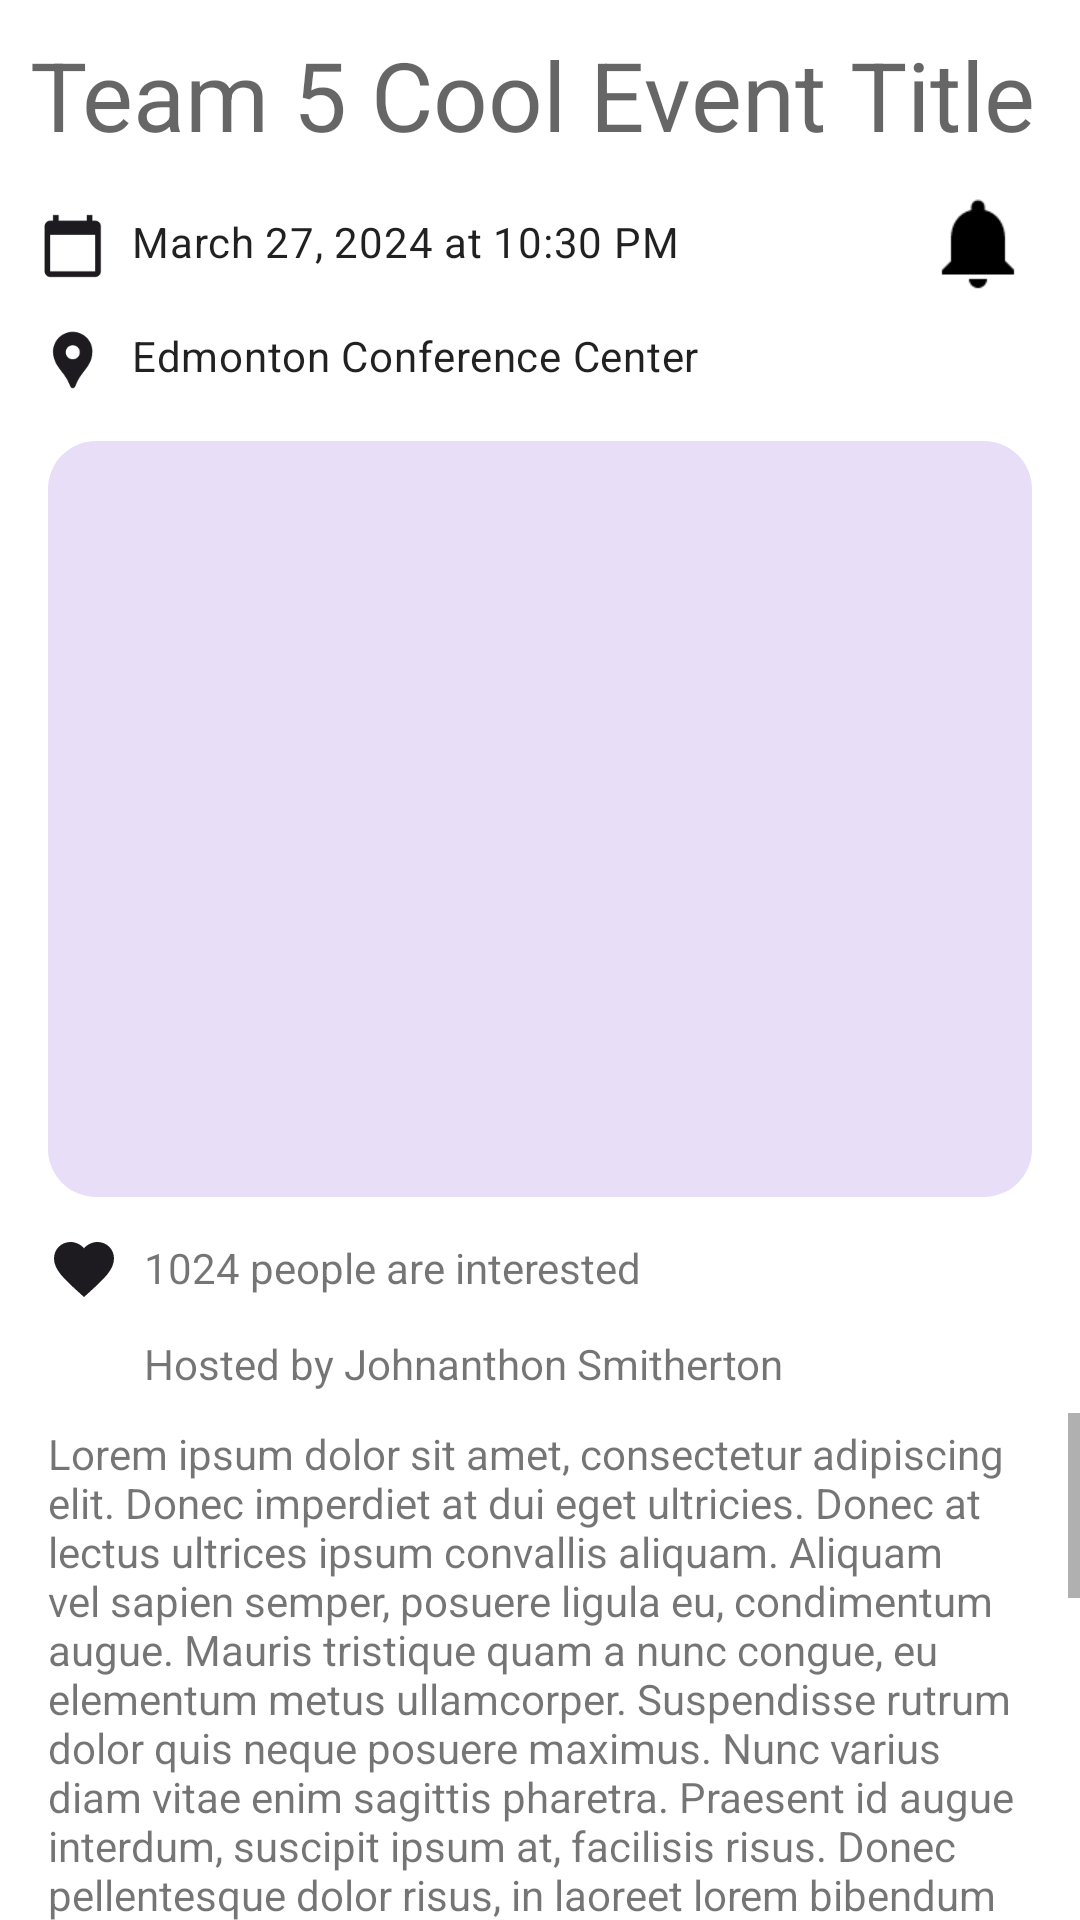

Icon bounding boxes for this 1080 x 1920 phone screenshot, format {"x1": x1, "y1": y1, "x2": x2, "y2": y2}:
liked heart: {"x1": 54, "y1": 1242, "x2": 114, "y2": 1297}
